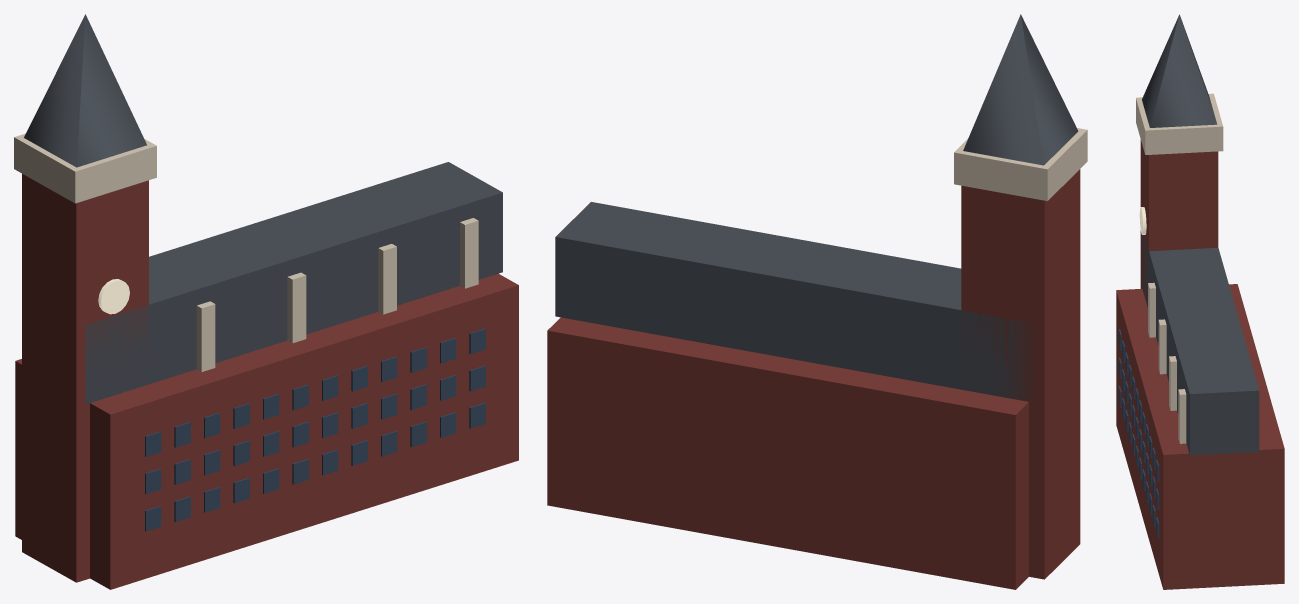
File: stpancras.glb
The picture shows the model from 3 angles, left to right: view 1: azimuth 30°, elevation 25°; view 2: azimuth 150°, elevation 25°; view 3: azimuth 270°, elevation 25°; orthographic projection. The views are drawn at different scales.
Parts seen in each view (by area): view 1: stpancras; view 2: stpancras; view 3: stpancras.
Part boxes in pixels (x1,y1,x2,y2): stpancras: (14, 14, 518, 589); stpancras: (547, 14, 1087, 589); stpancras: (1116, 14, 1284, 589).
Size of the model in its own units: 0.8655 by 0.9468 by 0.3465.
